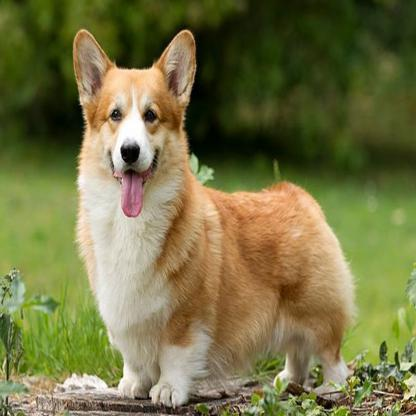Korgi: (70, 27, 362, 406)
